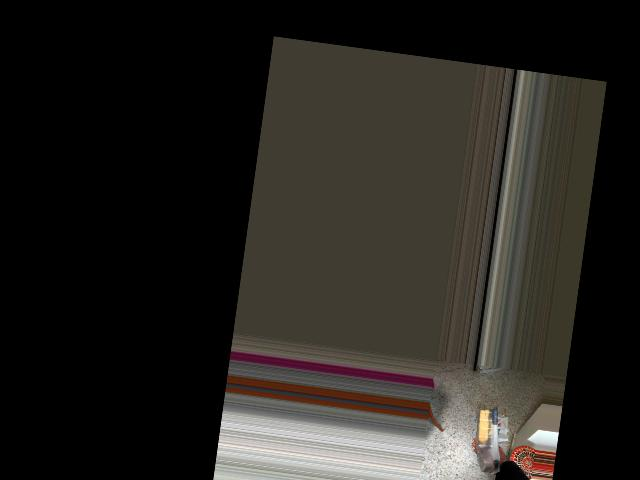cheese: (469, 406, 507, 473)
